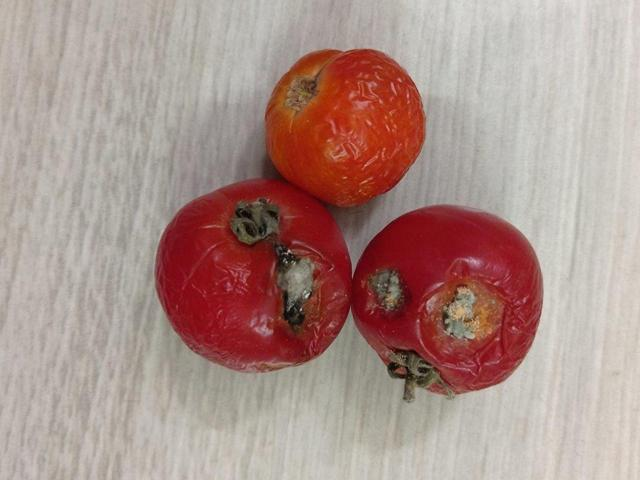defect: (352, 203, 553, 408), (152, 177, 353, 371)
